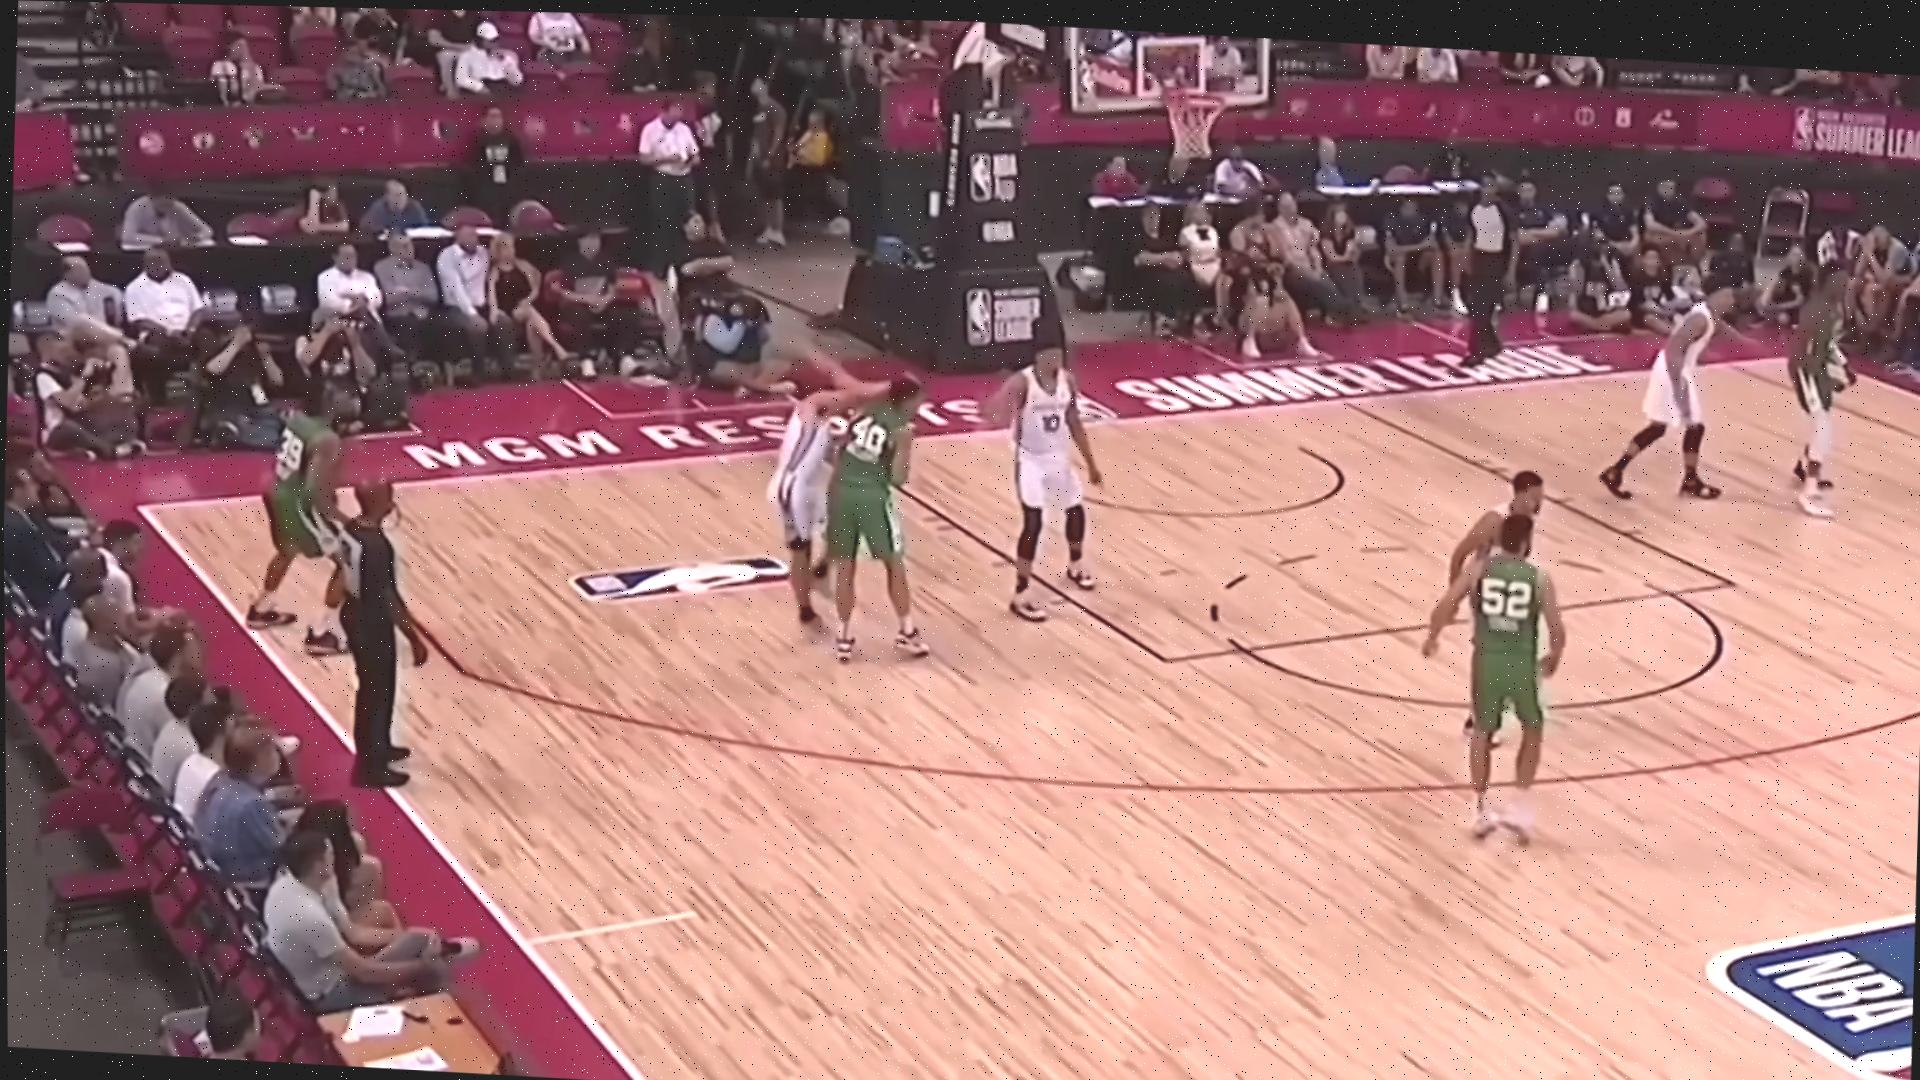foul: (736, 324, 984, 663)
